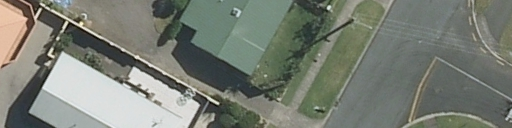DT: (342, 9, 368, 34)
